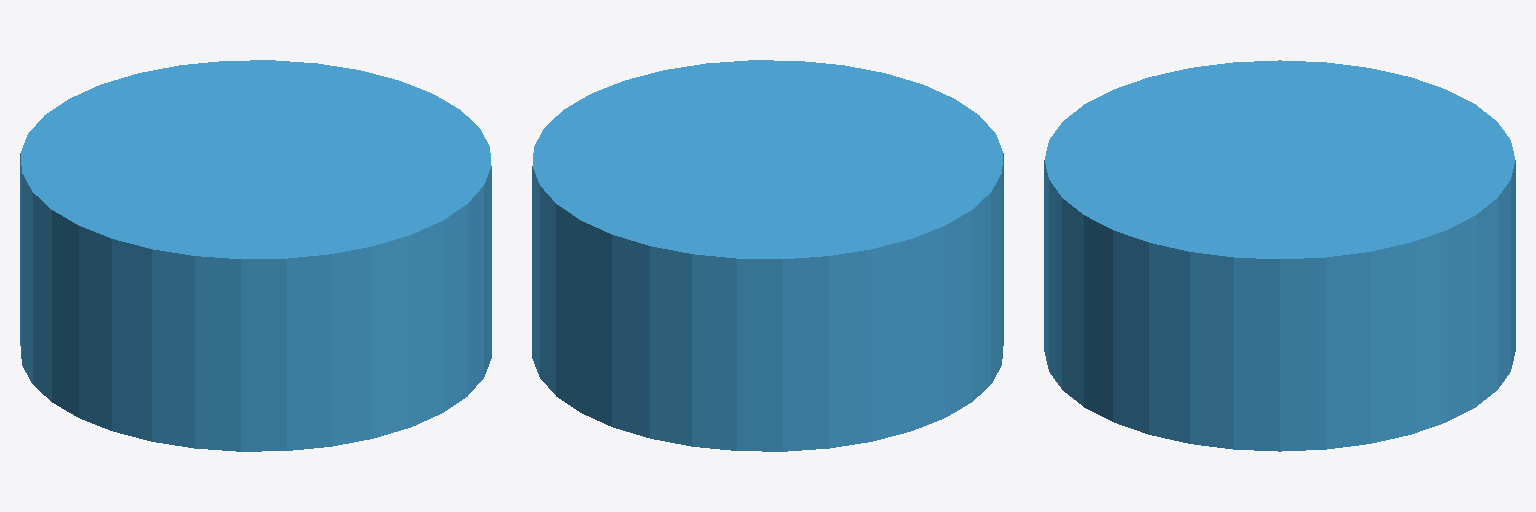
robot.urdf — kuka-lwr:
<robot name="kuka-lwr" xmlns:controller="http://playerstage.sourceforge.net/gazebo/xmlschema/#controller" xmlns:interface="http://playerstage.sourceforge.net/gazebo/xmlschema/#interface" xmlns:sensor="http://playerstage.sourceforge.net/gazebo/xmlschema/#sensor" xmlns:xacro="http://www.ros.org/wiki/xacro">
    <material name="DarkGrey">
        <color rgba="0.3 0.3 0.3 1.0" />
    </material>
    <material name="Red">
        <color rgba="0.3 0.3 0.3 1.0" />
    </material>
    <material name="Black">
        <color rgba="0 0 0 1.0" />
    </material>
    <material name="Orange">
        <color rgba="1.0 0.487 0 1.0" />
    </material>
    <material name="Silver">
        <color rgba="1.0 1.0 1.0 1.0" />
    </material>
    <material name="Grey">
        <color rgba="0.7 0.7 0.7 1.0" />
    </material>
    <material name="Blue">
        <color rgba="0.0 0.0 0.8 1.0" />
    </material>
    <material name="HandGray">
        <color rgba="0.953 0.996 0.694 1.0" />
    </material>
    <material name="SickBlue">
        <color rgba="0.3058 0.5921 0.7294 1.0" />
    </material>
    <link name="world" />
    <joint name="arm_world_joint" type="fixed">
        <origin rpy="0 0 0" xyz="0 0 0.01" />
        <parent link="world" />
        <child link="lwr_arm_base_link" />
    </joint>
    <!--link name="world_link">
    <inertial>
      <mass value="50.0"/>
      <com xyz="0 0 0"/>
      <inertia ixx="0.01" ixy="0.00" ixz="0.00" iyy="0.01" iyz="0.00" izz="0.01"/>
    </inertial>
    <visual>
      <origin rpy="0 0 0" xyz="0 0 0.95"/>
      <geometry>
        <box size="0.5 0.5 0.05"/>
      </geometry>
    </visual>
    <collision>
      <origin rpy="0 0 0" xyz="0 0 0.50"/>
      <geometry>
        <box size="0.5 0.5 0.05"/>
      </geometry>
    </collision>
  </link-->
    <!-- First (shoulder) element of the arm. Fixed to its parent. -->
    <!--joint name="world_lwr_arm_base_joint" type="fixed">
    <origin rpy="0 0 0" xyz="0 0 1.1"/>
    <parent link="world_link"/>
    <child link="lwr_arm_base_link"/>
  </joint-->
    <link name="lwr_arm_base_link">
        <inertial>
            <mass value="1.2" />
            <origin rpy="0 0 0" xyz="0 0 0.055" />
            <inertia ixx="0.00229" ixy="0" ixz="0" iyy="0.00216" iyz="0" izz="0.00229" />
        </inertial>
        <visual>
            <origin rpy="0 0 0" xyz="0 0 0" />
            <geometry>
                <mesh filename="model://kuka-lwr-4plus-ft/meshes/arm_base.dae" scale="100 100 100" />
            </geometry>
            <material name="Orange" />
        </visual>
        <collision>
            <origin rpy="0 0 0" xyz="0 0 0.01" />
            <geometry>
                <mesh filename="model://kuka-lwr-4plus-ft/meshes/convex/arm_base_convex.stl" scale="0.9 0.9 0.9" />
            </geometry>
        </collision>
    </link>
    <gazebo reference="lwr_arm_base_link">
        <!--<material value="kuka-lwr.material"/>-->
    </gazebo>
    <joint name="lwr_arm_0_joint" type="revolute">
        <origin rpy="0 0 0" xyz="0 0 0.11" />
        <axis xyz="0 0 1" />
        <limit effort="204" lower="-2.96705972839" upper="2.96705972839" velocity="1.91986217719" />
        <safety_controller k_position="100" k_velocity="2" soft_lower_limit="-2.93215314335" soft_upper_limit="2.93215314335" />
        <dynamics damping="5.0" />
        <parent link="lwr_arm_base_link" />
        <child link="lwr_arm_1_link" />
    </joint>
    <gazebo reference="lwr_arm_0_joint">
        <provideFeedback>1</provideFeedback>
        <implicitSpringDamper>1</implicitSpringDamper>
    </gazebo>
    <transmission name="lwr_arm_0_trans" type="SimpleTransmission">
        <actuator name="lwr_arm_0_motor" />
        <joint name="lwr_arm_0_joint" />
        <mechanicalReduction>1.0</mechanicalReduction>
    </transmission>
    <link name="lwr_arm_1_link">
        <inertial>
            <mass value="2.0" />
            <origin rpy="0 0 0" xyz="0 0 0.130" />
            <inertia ixx="0.0136666666667" ixy="0" ixz="0" iyy="0.0118666666667" iyz="0" izz="0.003" />
        </inertial>
        <visual>
            <origin rpy="0 0 3.14159265359" xyz="0 0 0" />
            <geometry>
                <mesh filename="model://kuka-lwr-4plus-ft/meshes/arm_segment_a.dae" scale="100 100 100" />
            </geometry>
            <material name="Orange" />
        </visual>
        <collision>
            <origin rpy="0 0 3.14159265359" xyz="0 0 0" />
            <geometry>
                <mesh filename="model://kuka-lwr-4plus-ft/meshes/convex/arm_segment_a_convex.stl" scale="1.0 1.0 1.0" />
            </geometry>
        </collision>
    </link>
    <gazebo reference="lwr_arm_1_link">
        <!--<material value="kuka-lwr.material"/>-->
    </gazebo>
    <joint name="lwr_arm_1_joint" type="revolute">
        <origin rpy="0 0 0" xyz="0 0 0.20" />
        <axis xyz="0 -1 0" />
        <limit effort="306" lower="-2.09439510239" upper="2.09439510239" velocity="1.91986217719" />
        <safety_controller k_position="100" k_velocity="2" soft_lower_limit="-2.05948851735" soft_upper_limit="2.05948851735" />
        <dynamics damping="5.0" />
        <parent link="lwr_arm_1_link" />
        <child link="lwr_arm_2_link" />
    </joint>
    <gazebo reference="lwr_arm_1_joint">
        <provideFeedback>1</provideFeedback>
        <implicitSpringDamper>1</implicitSpringDamper>
    </gazebo>
    <transmission name="lwr_arm_1_trans" type="pr2_mechanism_model/SimpleTransmission">
        <actuator name="lwr_arm_1_motor" />
        <joint name="lwr_arm_1_joint" />
        <mechanicalReduction>1.0</mechanicalReduction>
    </transmission>
    <link name="lwr_arm_2_link">
        <inertial>
            <mass value="2.0" />
            <origin rpy="0 0 0" xyz="0 -0.06 0.07" />
            <inertia ixx="0.0136666666667" ixy="0" ixz="0" iyy="0.0118666666667" iyz="0" izz="0.003" />
        </inertial>
        <visual>
            <origin rpy="3.14159265359 0 3.14159265359" xyz="0 0 0.2" />
            <geometry>
                <mesh filename="model://kuka-lwr-4plus-ft/meshes/arm_segment_b.dae" scale="100 100 100" />
            </geometry>
            <material name="Orange" />
        </visual>
        <collision>
            <origin rpy="3.14159265359 0 3.14159265359" xyz="0 0 0.2" />
            <geometry>
                <mesh filename="model://kuka-lwr-4plus-ft/meshes/convex/arm_segment_b_convex.stl" scale="1.0 1.0 1.0" />
            </geometry>
        </collision>
    </link>
    <gazebo reference="lwr_arm_2_link">
        <!--<material value="kuka-lwr.material"/>-->
    </gazebo>
    <joint name="lwr_arm_2_joint" type="revolute">
        <origin rpy="0 0 0" xyz="0 0 0.20" />
        <axis xyz="0 0 1" />
        <limit effort="204" lower="-2.96705972839" upper="2.96705972839" velocity="2.26892802759" />
        <safety_controller k_position="100" k_velocity="2" soft_lower_limit="-2.93215314335" soft_upper_limit="2.93215314335" />
        <dynamics damping="3.0" />
        <parent link="lwr_arm_2_link" />
        <child link="lwr_arm_3_link" />
    </joint>
    <gazebo reference="lwr_arm_2_joint">
        <provideFeedback>1</provideFeedback>
        <implicitSpringDamper>1</implicitSpringDamper>
    </gazebo>
    <transmission name="lwr_arm_2_trans" type="SimpleTransmission">
        <actuator name="lwr_arm_2_motor" />
        <joint name="lwr_arm_2_joint" />
        <mechanicalReduction>1.0</mechanicalReduction>
    </transmission>
    <link name="lwr_arm_3_link">
        <inertial>
            <mass value="2.0" />
            <origin rpy="0 0 0" xyz="0 -0.06 0.130" />
            <inertia ixx="0.0136666666667" ixy="0" ixz="0" iyy="0.0118666666667" iyz="0" izz="0.003" />
        </inertial>
        <visual>
            <origin rpy="0 0 0" xyz="0 0 0" />
            <geometry>
                <mesh filename="model://kuka-lwr-4plus-ft/meshes/arm_segment_a.dae" scale="100 100 100" />
            </geometry>
            <material name="Orange" />
        </visual>
        <collision>
            <origin rpy="0 0 0" xyz="0 0 0" />
            <geometry>
                <mesh filename="model://kuka-lwr-4plus-ft/meshes/convex/arm_segment_a_convex.stl" scale="1.0 1.0 1.0" />
            </geometry>
        </collision>
    </link>
    <gazebo reference="lwr_arm_3_link">
        <!--<material value="kuka-lwr.material"/>-->
    </gazebo>
    <joint name="lwr_arm_3_joint" type="revolute">
        <origin rpy="0 0 0" xyz="0 0 0.20" />
        <axis xyz="0 1 0" />
        <limit effort="306" lower="-2.09439510239" upper="2.09439510239" velocity="2.26892802759" />
        <safety_controller k_position="100" k_velocity="2" soft_lower_limit="-2.05948851735" soft_upper_limit="2.05948851735" />
        <dynamics damping="3.0" />
        <parent link="lwr_arm_3_link" />
        <child link="lwr_arm_4_link" />
    </joint>
    <gazebo reference="lwr_arm_3_joint">
        <provideFeedback>1</provideFeedback>
        <implicitSpringDamper>1</implicitSpringDamper>
    </gazebo>
    <transmission name="lwr_arm_3_trans" type="SimpleTransmission">
        <actuator name="lwr_arm_3_motor" />
        <joint name="lwr_arm_3_joint" />
        <mechanicalReduction>1.0</mechanicalReduction>
    </transmission>
    <link name="lwr_arm_4_link">
        <inertial>
            <mass value="2.0" />
            <origin rpy="0 0 0" xyz="0 0.06 0.07" />
            <inertia ixx="0.0136666666667" ixy="0" ixz="0" iyy="0.0118666666667" iyz="0" izz="0.003" />
        </inertial>
        <visual>
            <origin rpy="0 3.14159265359 3.14159265359" xyz="0 0 0.2" />
            <geometry>
                <mesh filename="model://kuka-lwr-4plus-ft/meshes/arm_segment_b.dae" scale="100 100 100" />
            </geometry>
            <material name="Orange" />
        </visual>
        <collision>
            <origin rpy="0 3.14159265359 3.14159265359" xyz="0 0 0.2" />
            <geometry>
                <mesh filename="model://kuka-lwr-4plus-ft/meshes/convex/arm_segment_b_convex.stl" scale="1.0 1.0 1.0" />
            </geometry>
        </collision>
    </link>
    <gazebo reference="lwr_arm_4_link">
        <!--<material value="kuka-lwr.material"/>-->
    </gazebo>
    <joint name="lwr_arm_4_joint" type="revolute">
        <origin rpy="0 0 0" xyz="0 0 0.20" />
        <axis xyz="0 0 1" />
        <limit effort="204" lower="-2.96705972839" upper="2.96705972839" velocity="2.26892802759" />
        <safety_controller k_position="100" k_velocity="2" soft_lower_limit="-2.93215314335" soft_upper_limit="2.93215314335" />
        <dynamics damping="1.0" />
        <parent link="lwr_arm_4_link" />
        <child link="lwr_arm_5_link" />
    </joint>
    <gazebo reference="lwr_arm_4_joint">
        <provideFeedback>1</provideFeedback>
        <implicitSpringDamper>1</implicitSpringDamper>
    </gazebo>
    <transmission name="lwr_arm_4_trans" type="SimpleTransmission">
        <actuator name="lwr_arm_4_motor" />
        <joint name="lwr_arm_4_joint" />
        <mechanicalReduction>1.0</mechanicalReduction>
    </transmission>
    <link name="lwr_arm_5_link">
        <inertial>
            <mass value="2.0" />
            <origin rpy="0 0 0" xyz="0 0 0.124" />
            <inertia ixx="0.0126506666667" ixy="0" ixz="0" iyy="0.0108506666667" iyz="0" izz="0.003" />
        </inertial>
        <visual>
            <origin rpy="0 0 3.14159265359" xyz="0 0 0" />
            <geometry name="lwr_arm_5_geom">
                <mesh filename="model://kuka-lwr-4plus-ft/meshes/arm_segment_last.dae" scale="100 100 100" />
            </geometry>
            <material name="Orange" />
        </visual>
        <collision>
            <origin rpy="0 0 3.14159265359" xyz="0 0 0" />
            <geometry>
                <mesh filename="model://kuka-lwr-4plus-ft/meshes/convex/arm_segment_last_convex.stl" scale="1.0 1.0 1.0" />
            </geometry>
        </collision>
    </link>
    <gazebo reference="lwr_arm_5_link">
        <!--<material value="kuka-lwr.material"/>-->
    </gazebo>
    <joint name="lwr_arm_5_joint" type="revolute">
        <origin rpy="0 0 0" xyz="0 0 0.19" />
        <axis xyz="0 -1 0" />
        <limit effort="306" lower="-2.09439510239" upper="2.09439510239" velocity="3.14159265359" />
        <safety_controller k_position="100" k_velocity="2" soft_lower_limit="-2.05948851735" soft_upper_limit="2.05948851735" />
        <dynamics damping="1.0" />
        <parent link="lwr_arm_5_link" />
        <child link="lwr_arm_6_link" />
    </joint>
    <gazebo reference="lwr_arm_5_joint">
        <provideFeedback>1</provideFeedback>
        <implicitSpringDamper>1</implicitSpringDamper>
    </gazebo>
    <transmission name="lwr_arm_5_trans" type="SimpleTransmission">
        <actuator name="lwr_arm_5_motor" />
        <joint name="lwr_arm_5_joint" />
        <mechanicalReduction>1.0</mechanicalReduction>
    </transmission>
    <link name="lwr_arm_6_link">
        <inertial>
            <mass value="1.0" />
            <origin rpy="0 0 0" xyz="0 0 0.0" />
            <inertia ixx="0.00260416666667" ixy="0" ixz="0" iyy="0.00260416666667" iyz="0" izz="0.00260416666667" />
        </inertial>
        <visual>
            <origin rpy="0 0 3.14159265359" xyz="0 0 0" />
            <geometry>
                <mesh filename="model://kuka-lwr-4plus-ft/meshes/arm_wrist.dae" scale="100 100 100" />
            </geometry>
            <material name="Grey" />
        </visual>
        <collision>
            <origin rpy="0 0 3.14159265359" xyz="0 0 0" />
            <geometry>
                <mesh filename="model://kuka-lwr-4plus-ft/meshes/convex/arm_wrist_convex.stl" scale="1.0 1.0 1.0" />
            </geometry>
        </collision>
    </link>
    <gazebo reference="lwr_arm_6_link">
        <!--<material value="kuka-lwr.material"/>-->
    </gazebo>
    <joint name="lwr_arm_6_joint" type="revolute">
        <origin rpy="0 0 0" xyz="0 0 0.078" />
        <axis xyz="0 0 1" />
        <limit effort="204" lower="-2.96705972839" upper="2.96705972839" velocity="3.14159265359" />
        <safety_controller k_position="100" k_velocity="2" soft_lower_limit="-2.93215314335" soft_upper_limit="2.93215314335" />
        <dynamics damping="1.0" />
        <parent link="lwr_arm_6_link" />
        <child link="lwr_arm_7_link" />

    </joint>
    <gazebo reference="lwr_arm_6_joint">
        <provideFeedback>1</provideFeedback>
        <implicitSpringDamper>1</implicitSpringDamper>
		 <!--<sensor name="force_torque" type="force_torque">
          <always_on>true</always_on>
          <visualize>true</visualize>
          <update_rate>30</update_rate>
        </sensor>-->
    </gazebo>

    <transmission name="lwr_arm_6_trans" type="SimpleTransmission">
        <actuator name="lwr_arm_6_motor" />
        <joint name="lwr_arm_6_joint" />
        <mechanicalReduction>1.0</mechanicalReduction>
    </transmission>
    <link name="lwr_arm_7_link">
        <inertial>
            <mass value="0.2" />
            <origin xyz="0 0 0" />
            <inertia ixx="6.66666666667e-05" ixy="0" ixz="0" iyy="6.66666666667e-05" iyz="0" izz="0.00012" />
        </inertial>
        <visual>
            <origin rpy="0 0 0" xyz="0 0 0" />
            <geometry>
                <mesh filename="model://kuka-lwr-4plus-ft/meshes/arm_flanche.dae" scale="100 100 100" />
            </geometry>
            <material name="Grey" />
        </visual>
        <collision>
            <origin rpy="0 0 0" xyz="0 0 0" />
            <geometry>
                <!--mesh filename="model://kuka-lwr-4plus/meshes/convex/arm_flanche_convex.stl" scale="1.0 1.0 1.0"/-->
               <mesh filename="model://kuka-lwr-4plus-ft/meshes/arm_flanche.dae" scale="100 100 100" />
            </geometry>
            <surface>
                <friction>
                    <ode>
                        <mu>0.01</mu>
                        <mu2>0.01</mu2>
                    </ode>
                </friction>
            </surface>
        </collision>
    </link>
    <gazebo reference="lwr_arm_7_link">
      <!--  <material value="kuka-lwr.material"/>-->
    </gazebo>
<joint name="lwr_ft_sensor_joint" type="revolute">
	<origin rpy="0 0 0" xyz="0 0 0.0333" />
	<limit effort="0" lower="0" upper="0" velocity="0" />
    <parent link="lwr_arm_7_link"/>
    <child link="lwr_tool"/>
	
  </joint>
<gazebo reference="lwr_ft_sensor_joint">
        <provideFeedback>1</provideFeedback>
		<sensor name="force_torque" type="force_torque">
          <always_on>true</always_on>
          <visualize>true</visualize>
          <update_rate>100</update_rate>
		   <force_torque>
			<frame>child</frame>
			<measure_direction>child_to_parent</measure_direction>
		  </force_torque>
        </sensor>
    </gazebo>


<link name="lwr_tool">
			<collision name="ft_collision">
				<origin rpy="0 0 0" xyz="0 0 -0.01665" />
				<geometry>
					<cylinder length="0.0333" radius="0.037"/>
				</geometry>
			</collision>
			<visual name="ft_visual">
				<origin rpy="0 0 0" xyz="0 0 -0.01665" />
				<geometry>
					<cylinder length="0.0333" radius="0.037"/>
				</geometry>
			</visual>
			<inertial>
       <mass value="0.255"/>
       <inertia ixx="0.000110838" ixy="0.0" ixz="0.0" iyy="0.000110838" iyz="0.0" izz="0.000174548"/>
     </inertial>
			<!--<sensor name='ft_sensor' type='ForceTorque'/><- maybe?
			<sensor type='force_torque' name='ft_sensor_left'>"0.037"
				<update_rate>1000</update_rate>
			</sensor>-->
		</link> 
   <gazebo reference="lwr_tool_mount">
		<provideFeedback>1</provideFeedback>
		<!--<sensor type="force_torque" name="ft1"/>
        <material value="kuka-lwr.material"/>-->
    </gazebo>
    <!--xacro:lwr_arm_gazebo_controller namespace="" prefix="lwr" port="49938"/-->
</robot>

--- Facts derived from the render (not from the file) ---
3 views of the same robot in one strip: view 1: azimuth 30°, elevation 25°; view 2: azimuth 150°, elevation 25°; view 3: azimuth 270°, elevation 25° (orthographic).
Model kuka-lwr with 10 links and 9 joints (8 revolute, 1 fixed), rooted at world, posed all joints at 0.
Visible links, largest first — view 1: lwr_tool; view 2: lwr_tool; view 3: lwr_tool.
Link boxes in pixels (x1,y1,x2,y2): lwr_tool: (20,60,491,451); lwr_tool: (532,60,1003,451); lwr_tool: (1044,60,1515,451).
Size in the robot's own frame: 0.074 by 0.074 by 0.0333 metres.
0 mesh visuals loaded from 6 distinct referenced files (none loaded); not drawn: 8 (reference not matched to a file when rendering).